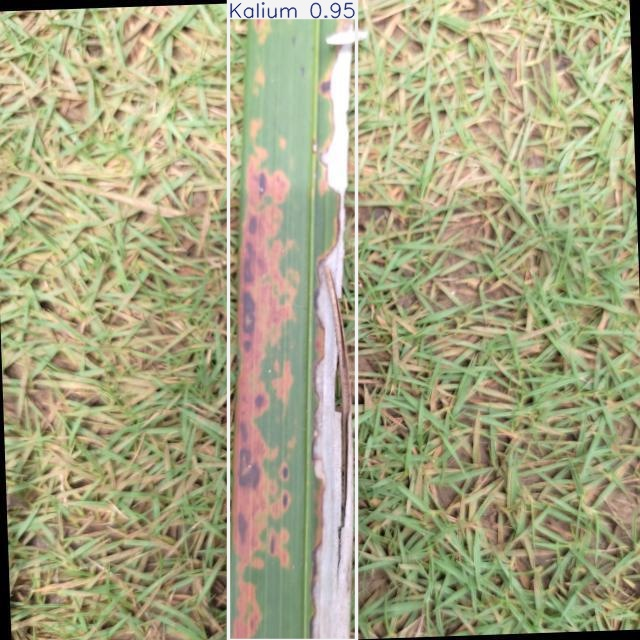Kalium: (229, 0, 357, 640)
